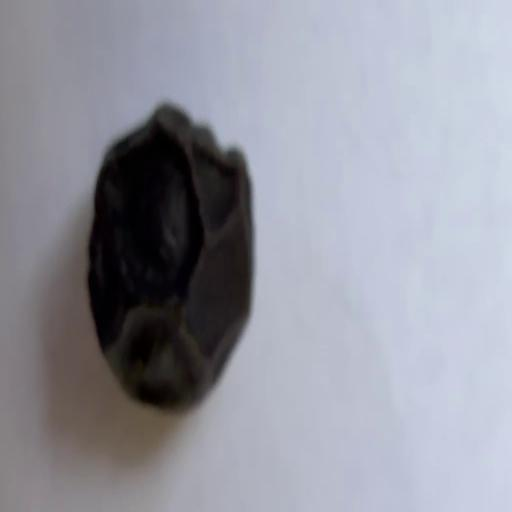Black_pepper: (85, 70, 259, 430)
